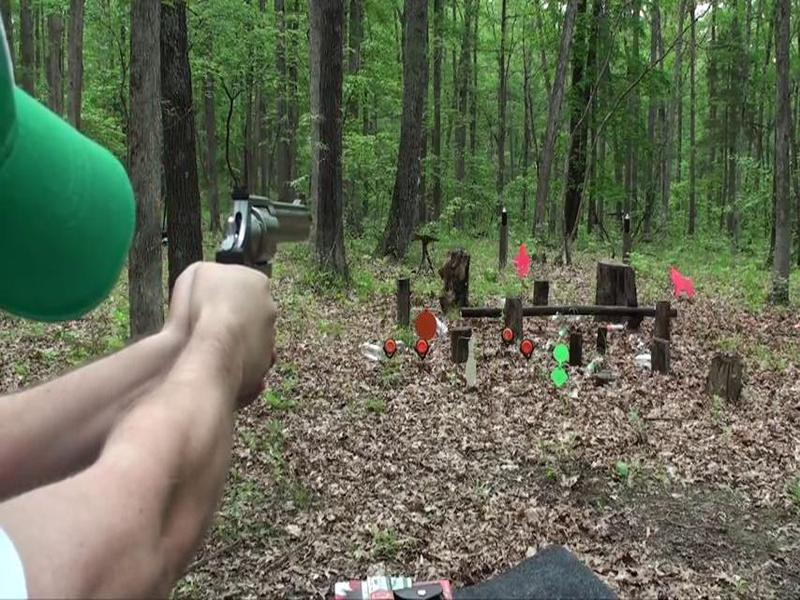Revolver: (199, 182, 317, 281)
